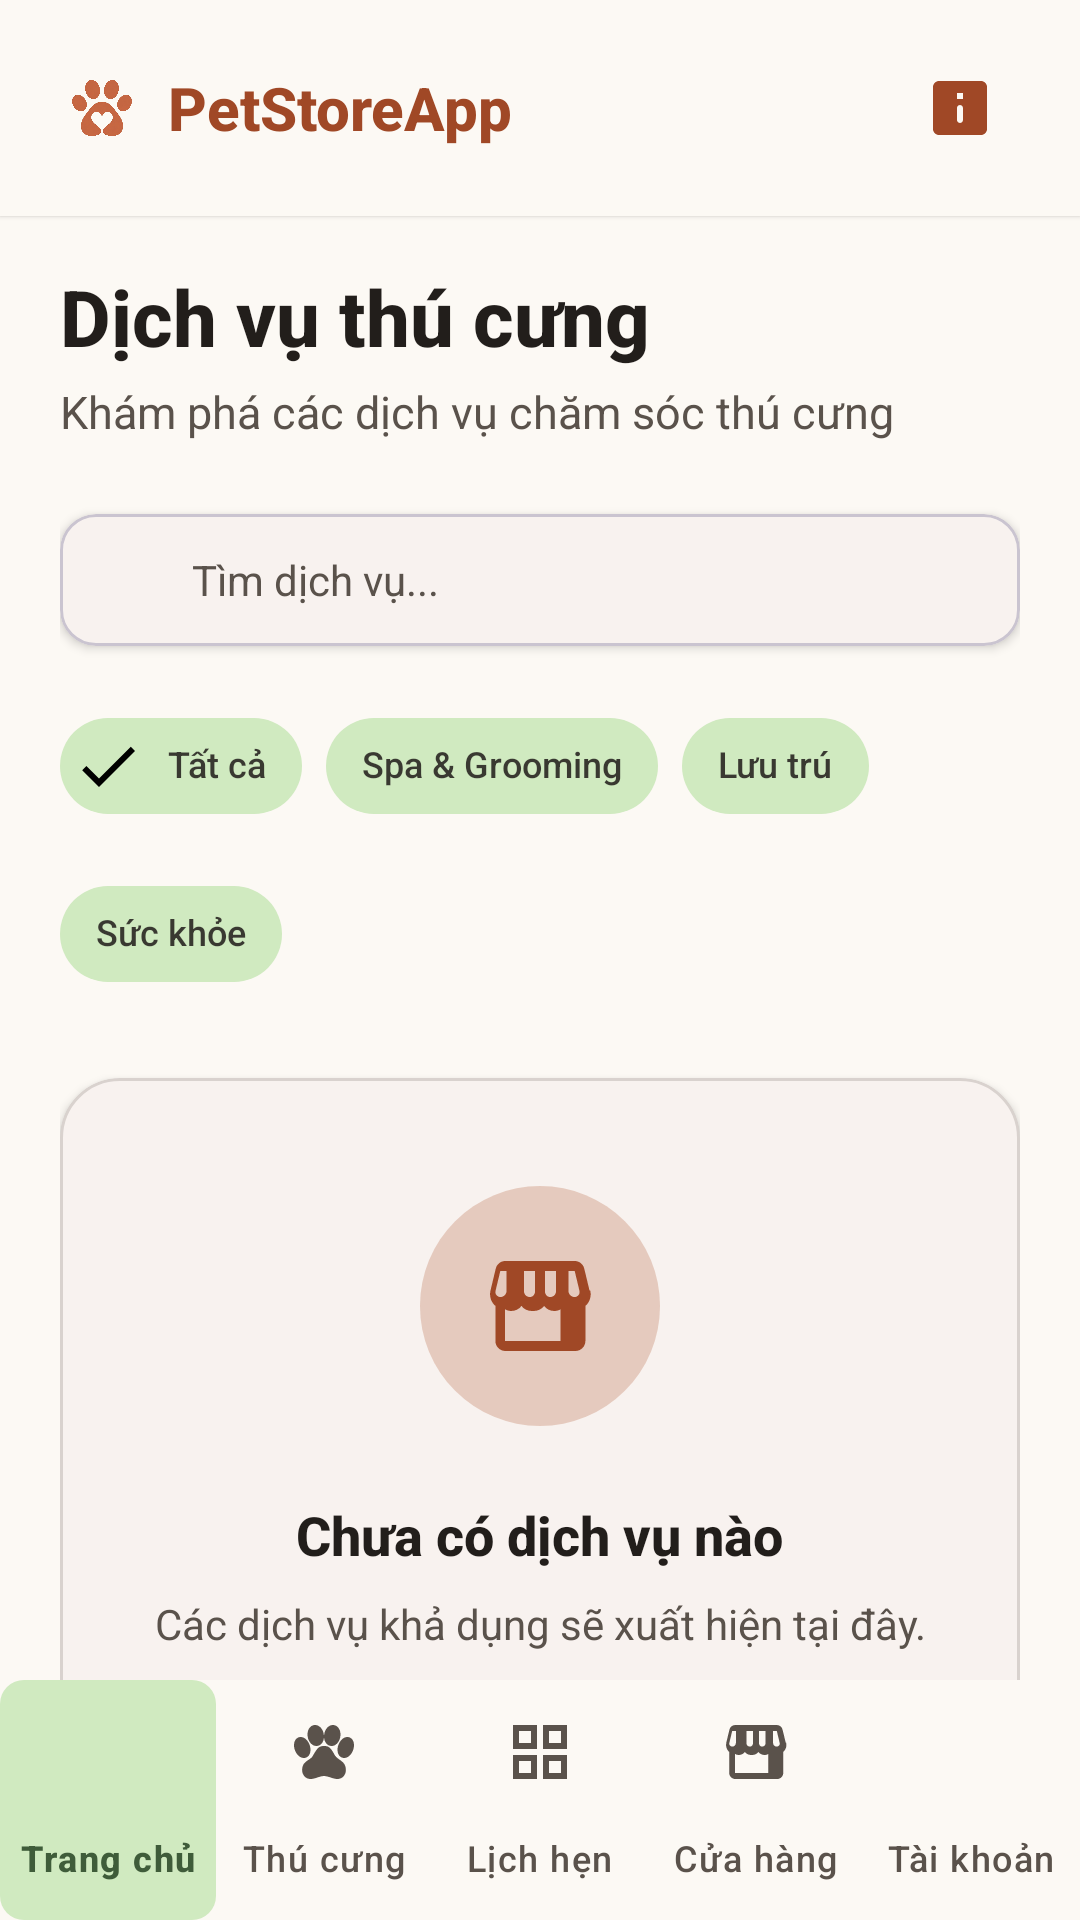

Icon bounding boxes for this 1080px×1920px phone screenshot, format BBox(x1, y1, x2, y2):
petstore paw: BBox(72, 80, 132, 136)
